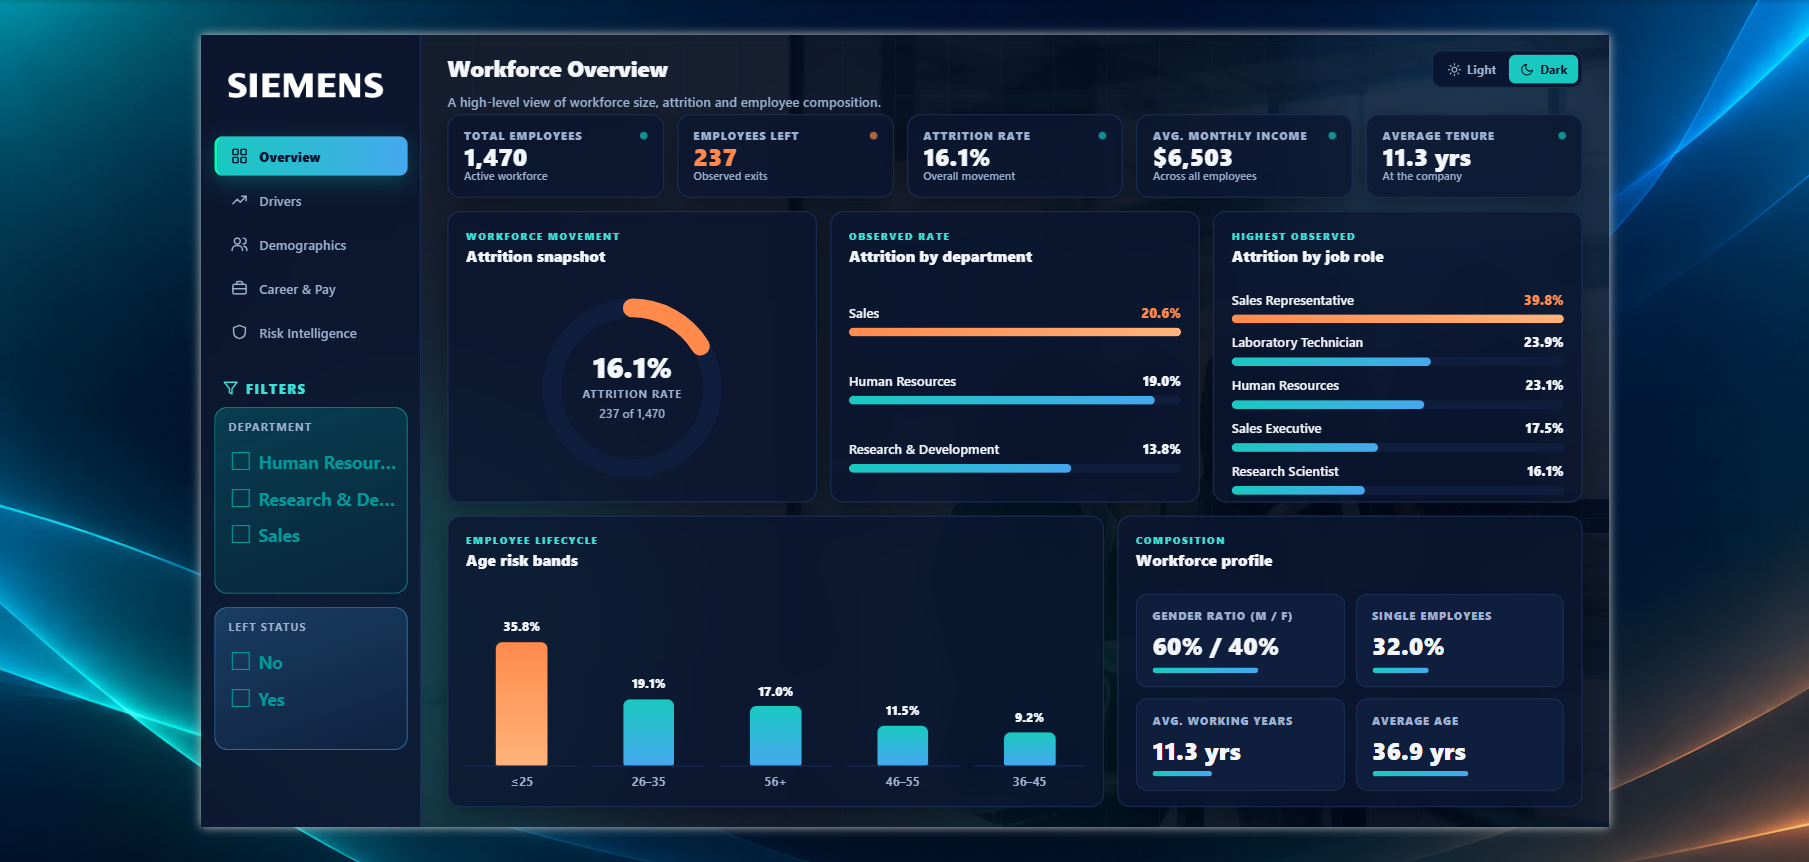

What the dashboard file says about the page in this screenshot:
{"tool":"powerbi","page":{"name":"Overview Page","canvas":[1280,720],"ordinal":1},"visuals":[{"type":"htmlContent443BE3AD55E043BF878BED274D3A6855","fields":{"content":["HTML Visuals.Overview_Page"]},"box":[0,0,1280,720],"z":0},{"type":"slicer","title":"Left Status Slicer","fields":{"Values":["fact_attrition.attrition"]},"box":[20,554,160,84],"z":250},{"type":"slicer","title":"Department Slicer","fields":{"Values":["dim_department.department"]},"box":[20,372,160,124],"z":500},{"type":"actionButton","title":"Risk Intelligence","box":[12,252,176,36],"z":1000},{"type":"actionButton","title":"Career & Pay","box":[12,212,176,36],"z":2000},{"type":"actionButton","title":"Demographics","box":[12,172,176,36],"z":3000},{"type":"actionButton","title":"Drivers","box":[12,132,176,36],"z":4000}]}

Visuals, with their boxes on the page's 1280x720 design canvas (x1, y1, x2, y2). These are canvas units, not pixel positions in the 1809x862 screenshot, which may show the page scaled, cropped or inside an application window:
htmlContent443BE3AD55E043BF878BED274D3A6855 - HTML Visuals.Overview_Page: crop(0, 0, 1280, 720)
"Left Status Slicer" slicer: crop(20, 554, 180, 638)
"Department Slicer" slicer: crop(20, 372, 180, 496)
"Risk Intelligence" actionButton: crop(12, 252, 188, 288)
"Career & Pay" actionButton: crop(12, 212, 188, 248)
"Demographics" actionButton: crop(12, 172, 188, 208)
"Drivers" actionButton: crop(12, 132, 188, 168)
